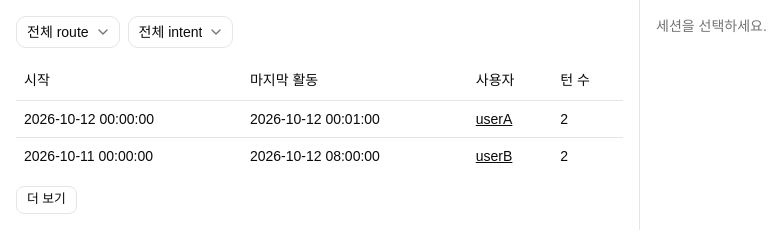
Test case: LogsPage › [P5] 세션 목록은 서버가 준 순서 그대로 표시하고(마지막 활동 기준 재정렬 없음), 더 보기로 이어 붙인다
Check: the button "userA" is shown, box top-left (476, 108), bottom-right (512, 128)
Click the button "더 보기" at {"x": 46, "y": 200}, box top-left (16, 186), bottom-right (77, 214)
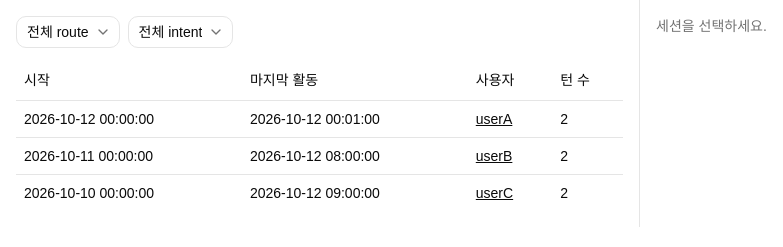
Check: the button "userC" is shown, box top-left (476, 182), bottom-right (513, 202)
Check: the button "더 보기" is gone
